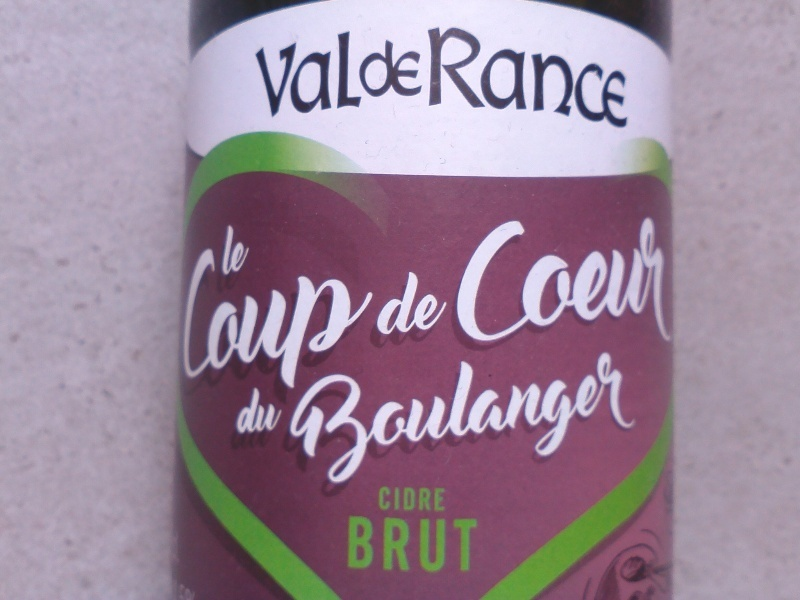text: (193, 242, 208, 404), (209, 242, 224, 404), (225, 242, 240, 404), (241, 242, 256, 404), (257, 242, 272, 404), (273, 242, 288, 404), (289, 242, 304, 404), (305, 242, 320, 404), (321, 242, 336, 404), (337, 242, 352, 404), (353, 242, 368, 404), (625, 351, 641, 493), (305, 351, 320, 493), (321, 351, 336, 493), (337, 351, 352, 493), (353, 351, 368, 493), (369, 351, 384, 493), (385, 351, 400, 493), (401, 351, 416, 493), (417, 351, 432, 493), (433, 351, 448, 493), (449, 351, 464, 493), (465, 351, 480, 493), (481, 351, 496, 493), (497, 351, 512, 493), (513, 351, 528, 493), (529, 351, 544, 493), (545, 351, 560, 493), (561, 351, 576, 493), (577, 351, 592, 493), (593, 351, 608, 493), (609, 351, 624, 493), (465, 214, 480, 349), (481, 214, 496, 349), (497, 214, 512, 349), (513, 214, 528, 349), (529, 214, 544, 349), (545, 214, 560, 349), (561, 214, 576, 349), (577, 214, 592, 349), (593, 214, 608, 349), (609, 214, 624, 349), (625, 214, 640, 349), (641, 214, 656, 349), (657, 214, 672, 349), (369, 242, 381, 404), (292, 351, 304, 493), (433, 22, 448, 131), (449, 22, 464, 131), (465, 22, 480, 131), (481, 22, 496, 131), (497, 22, 512, 131), (513, 22, 528, 131), (529, 22, 544, 131), (545, 22, 560, 131), (561, 22, 576, 131), (577, 22, 592, 131), (593, 22, 608, 131), (609, 22, 624, 131), (257, 27, 272, 121), (273, 27, 288, 121), (289, 27, 304, 121), (305, 27, 320, 121), (321, 27, 336, 121), (337, 27, 352, 121), (385, 252, 400, 343), (401, 252, 416, 343), (417, 252, 432, 343), (433, 252, 448, 343), (353, 27, 367, 121), (185, 242, 192, 404), (369, 38, 384, 101), (385, 38, 400, 101), (401, 38, 416, 101), (241, 218, 256, 278), (354, 38, 368, 101), (353, 517, 368, 574), (369, 517, 384, 574), (385, 517, 400, 574), (401, 517, 416, 574), (417, 517, 432, 574), (433, 517, 448, 574), (449, 517, 464, 574), (465, 517, 480, 574), (241, 383, 256, 438), (257, 383, 272, 438), (458, 214, 464, 349), (229, 218, 240, 278), (426, 22, 432, 131), (625, 22, 631, 131), (273, 383, 284, 438), (417, 38, 426, 101), (449, 252, 455, 343), (673, 214, 676, 349), (252, 27, 256, 121), (385, 488, 400, 513), (401, 488, 416, 513), (417, 488, 432, 513), (433, 488, 447, 513), (347, 517, 352, 574), (236, 383, 240, 438), (378, 488, 384, 513), (383, 252, 384, 343)
